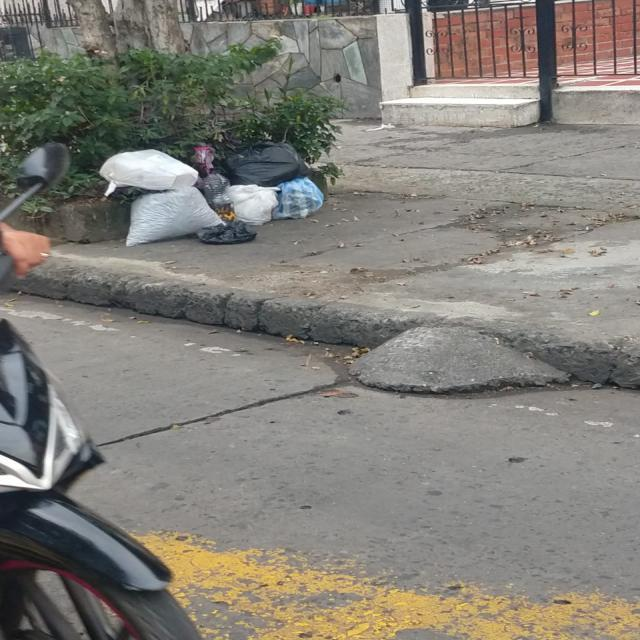Trashbag: (220, 139, 310, 194)
